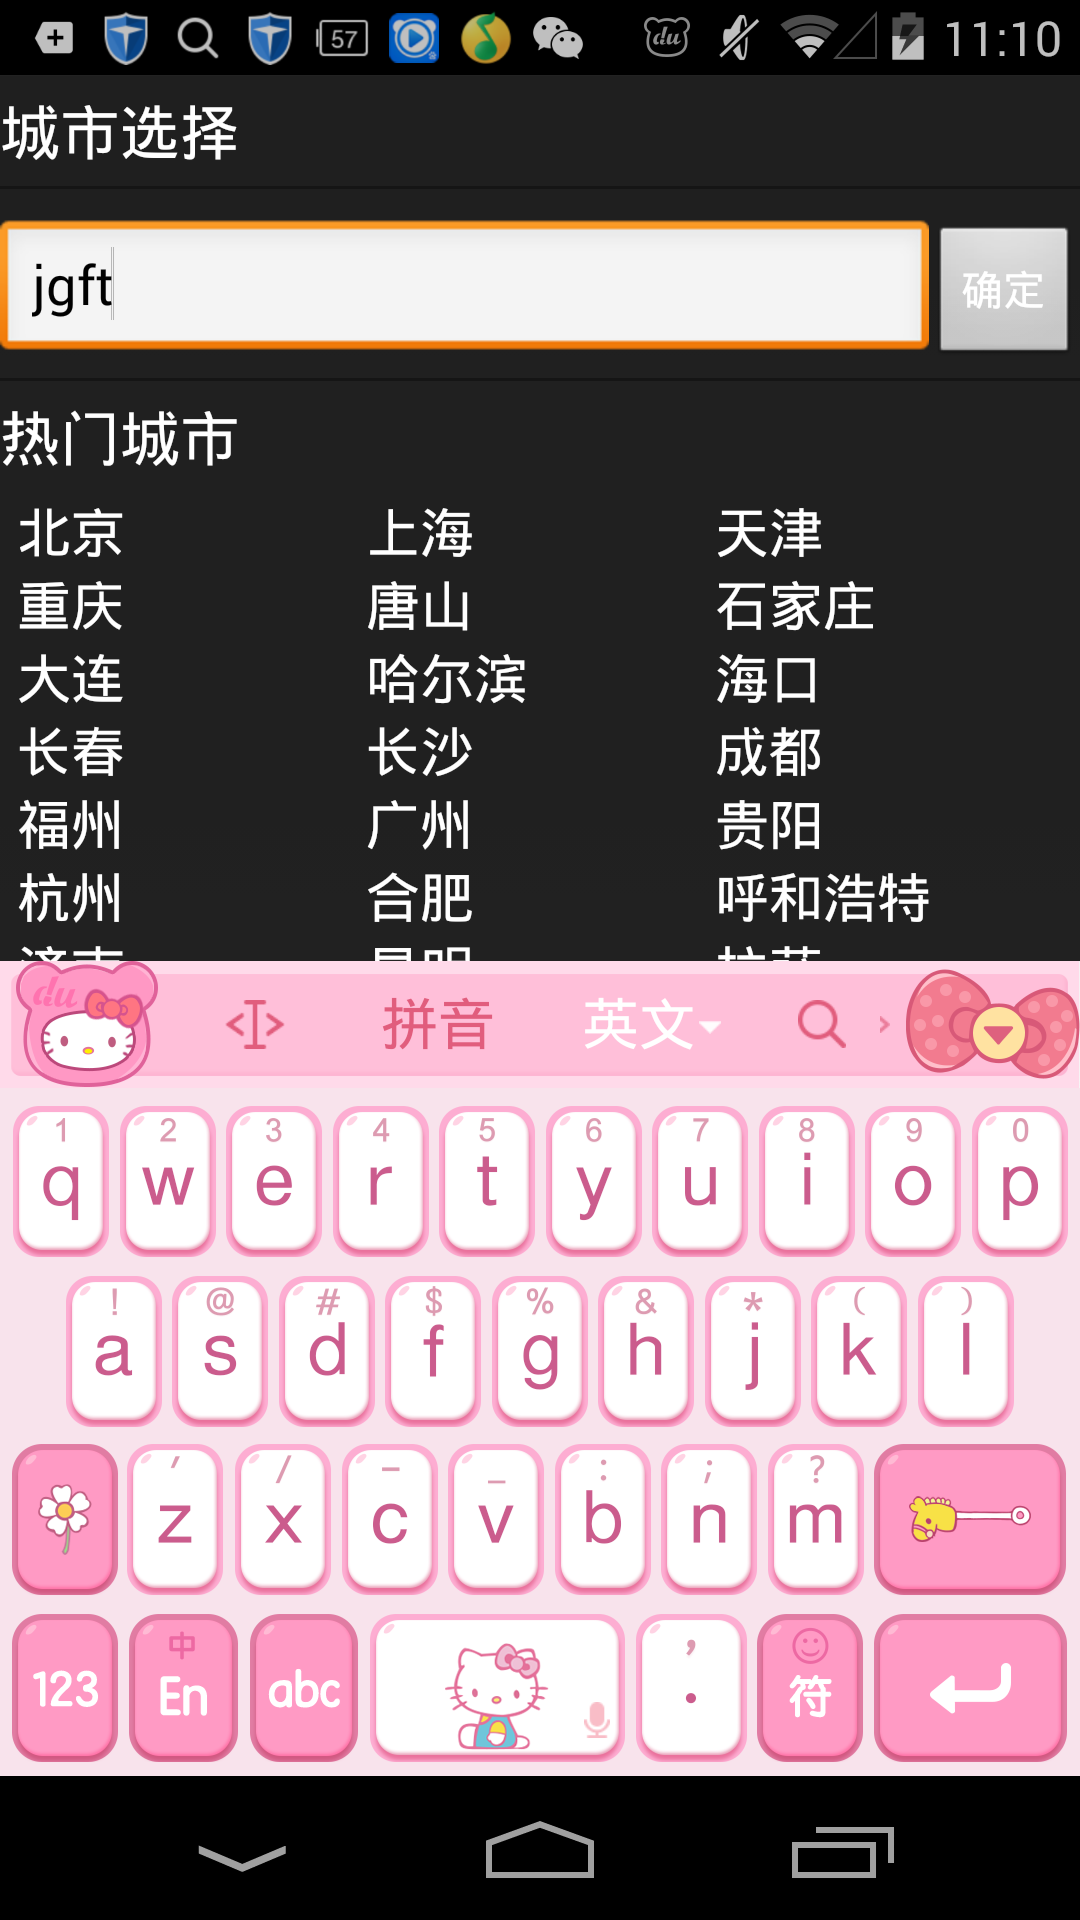textview: (7, 401, 998, 899)
